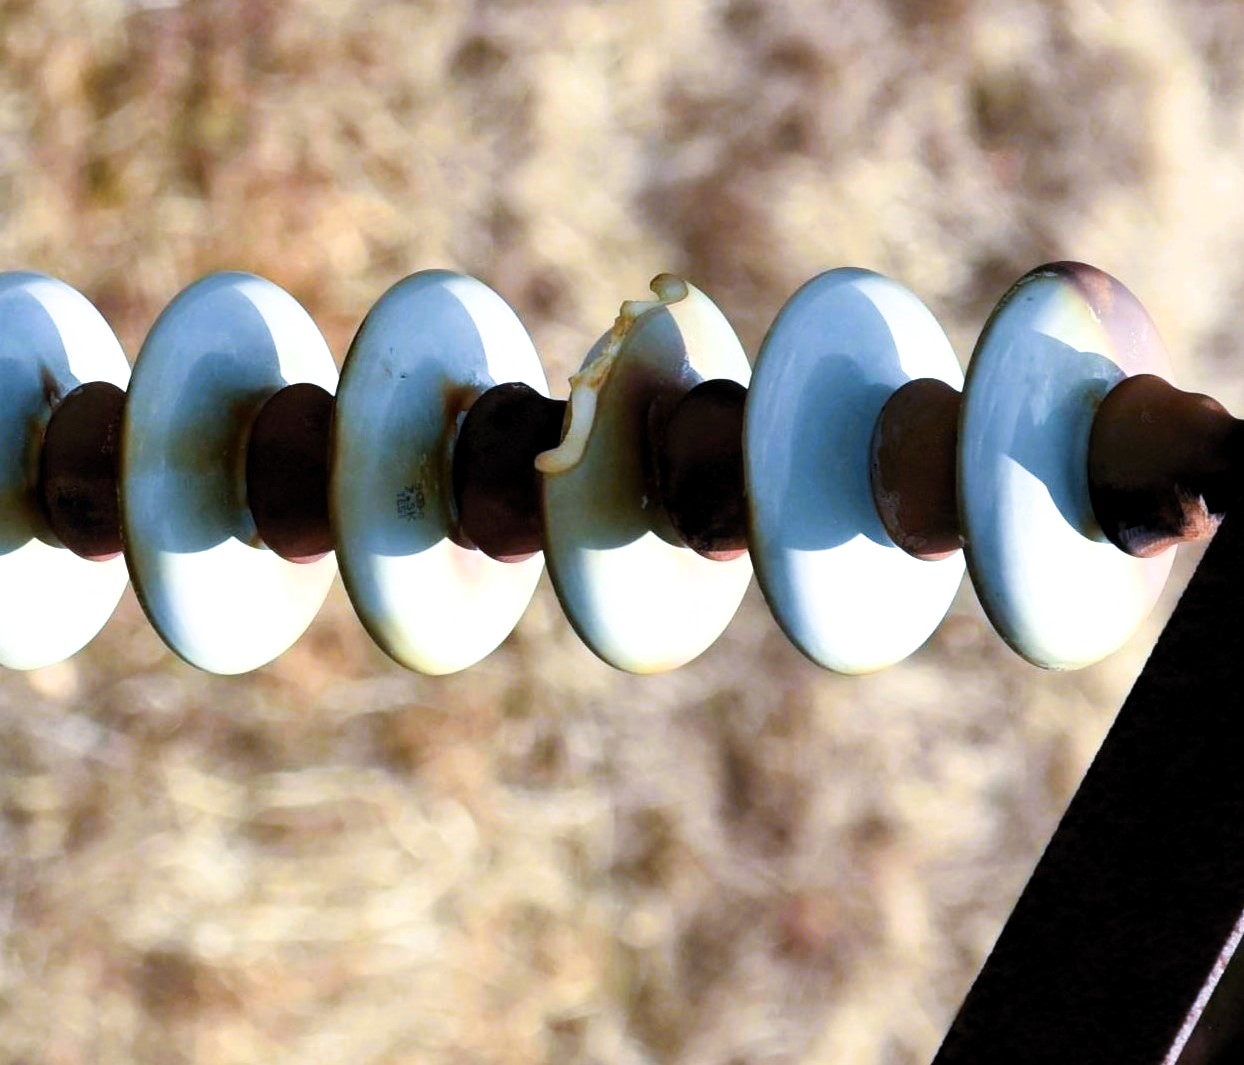insulator breakage: (525, 242, 759, 684)
